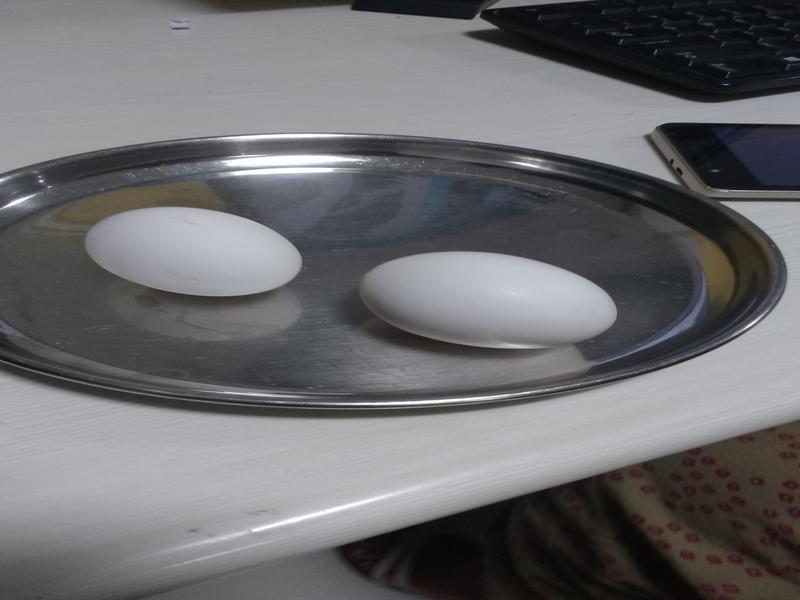egg: (362, 249, 621, 342)
